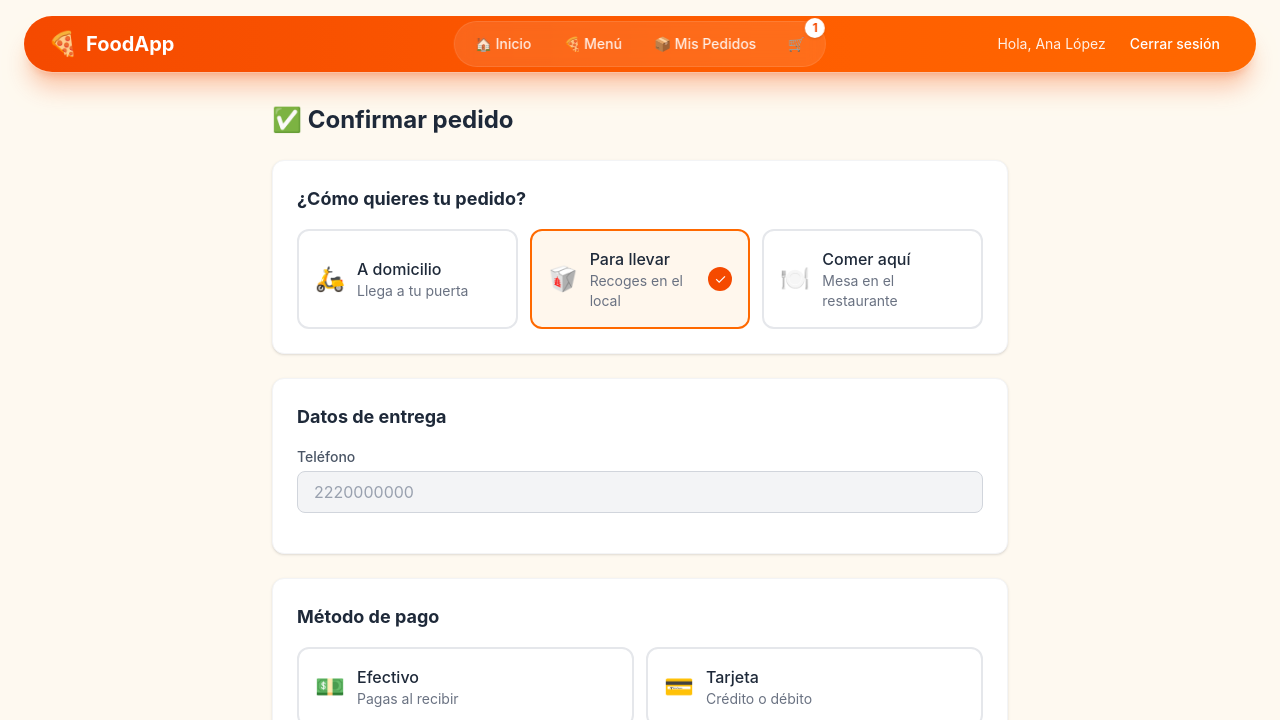
Test case: CheckoutPage - envío del pedido al backend › si el POST falla: aviso de error y el carrito NO se vacía
The width and height of the screenshot is (1280, 720).
Type "3001234567" into the field labelled "Teléfono".
click(640, 492); type("3001234567")  # box [297,471,983,513]
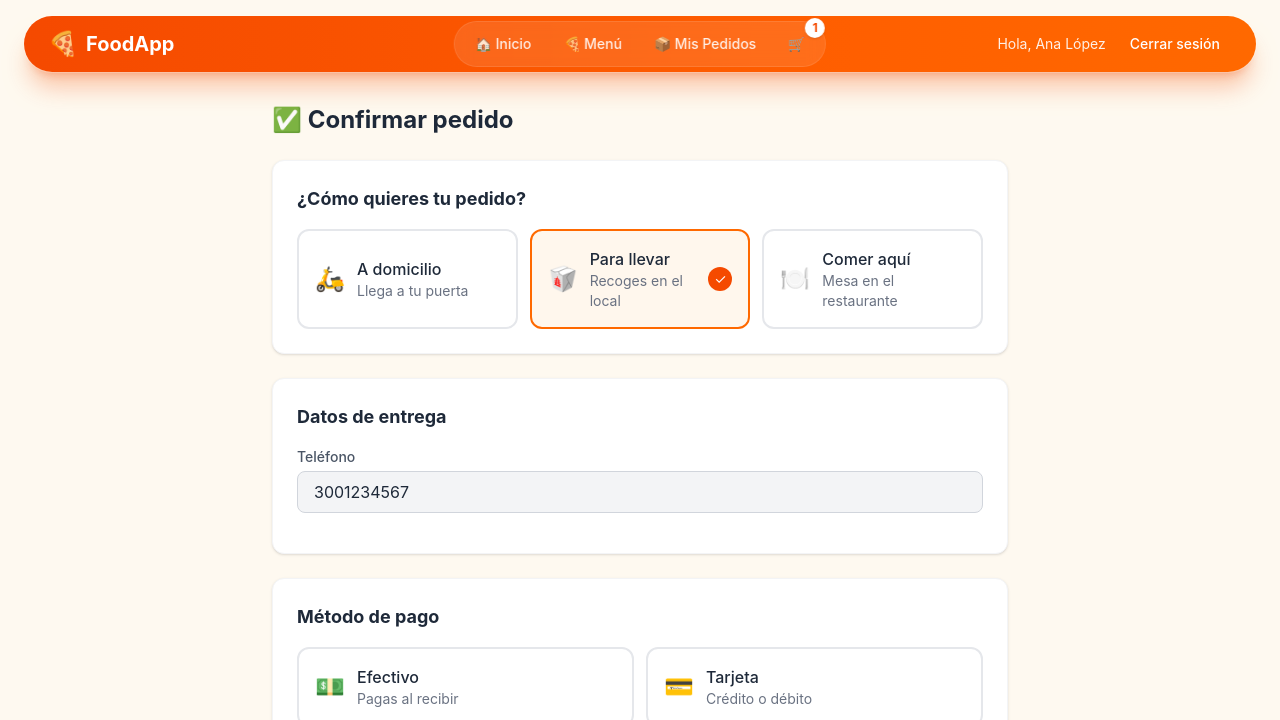
Click the text "Efectivo".
click(388, 677)  # box [357,667,419,687]
(page scrolled)
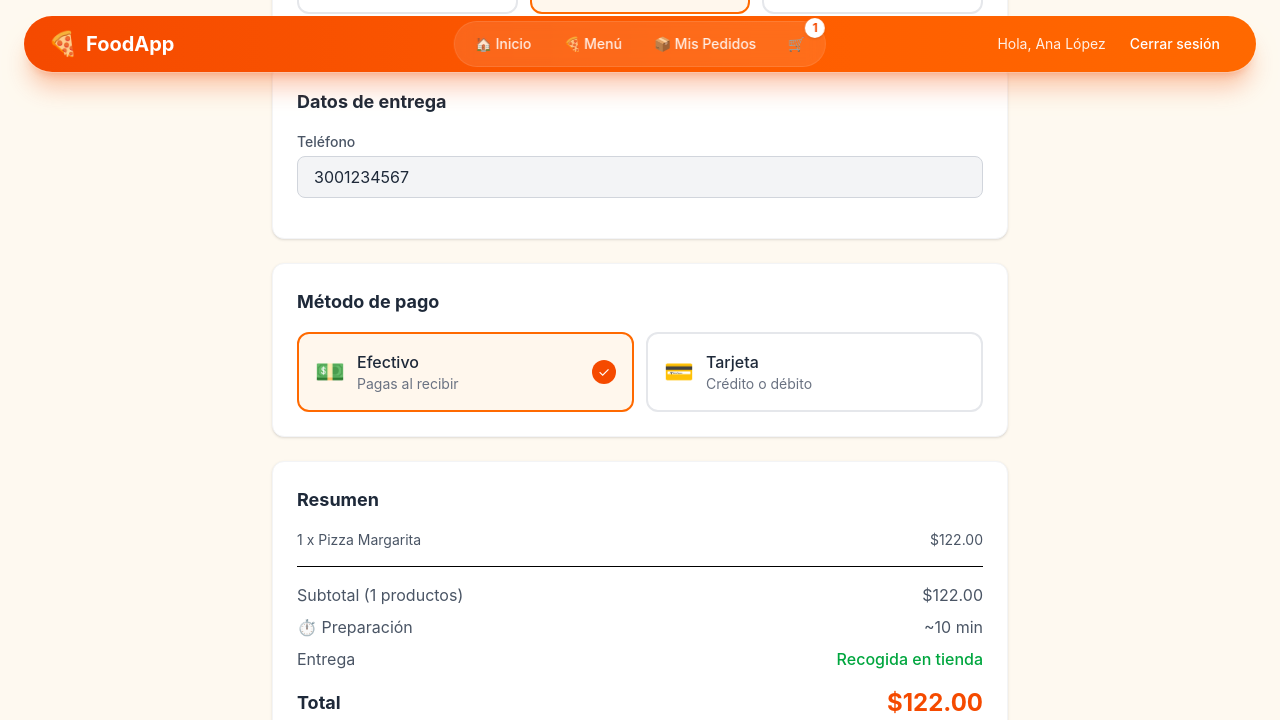
Submit the form named "Confirmar pedido"
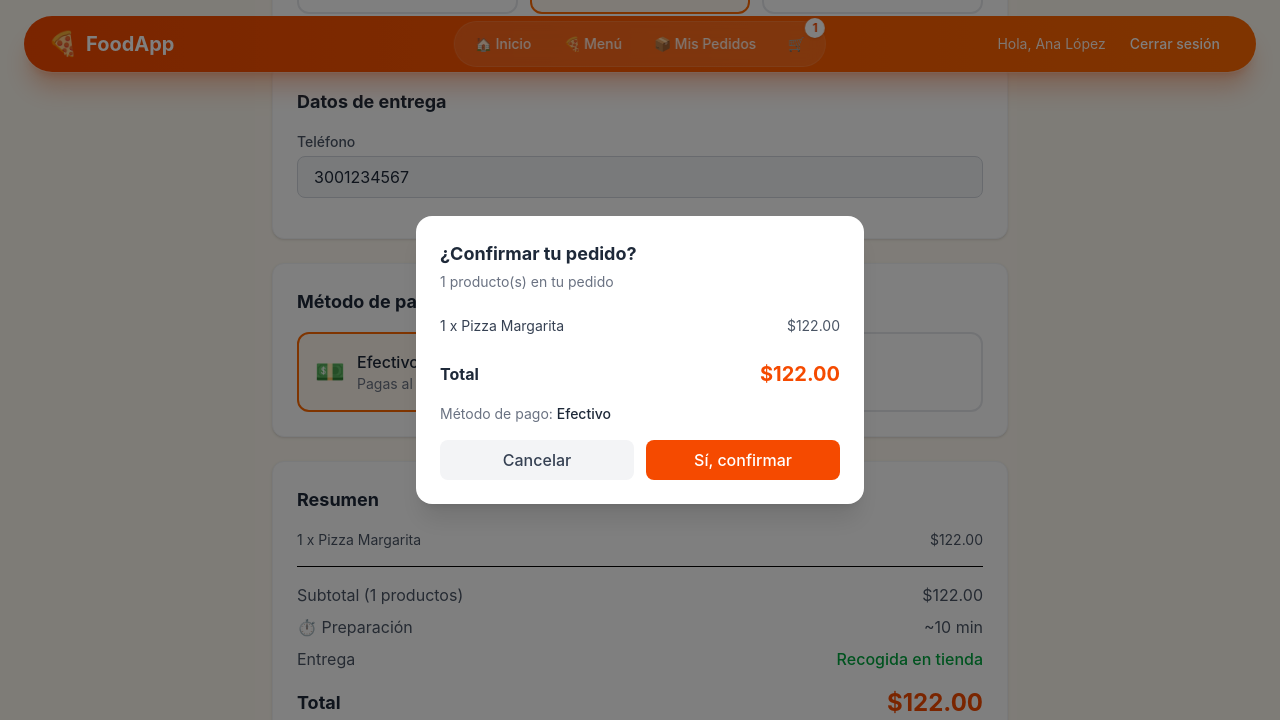
expect the heading "¿Confirmar tu pedido?" is shown: met, box [440,243,637,264]
Click the button "Sí, confirmar".
click(743, 460)  # box [646,440,840,480]
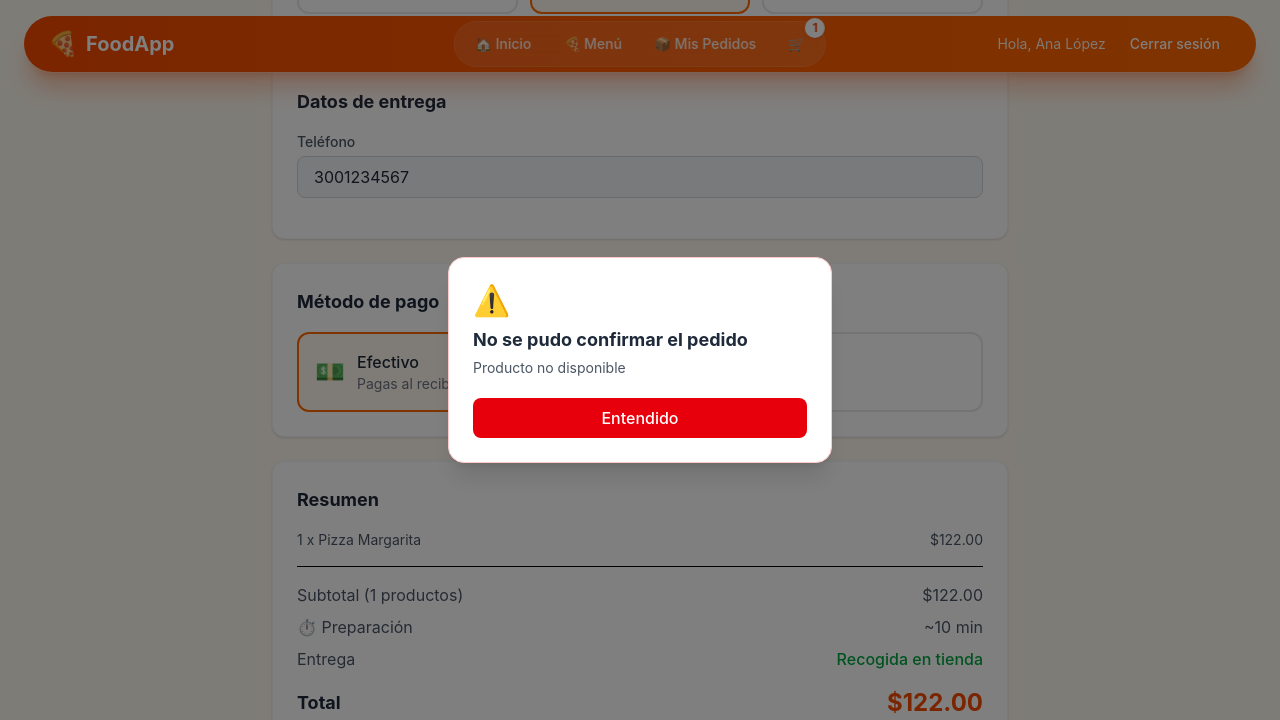
expect the heading "No se pudo confirmar el pedido" is shown: met, box [473,329,748,350]
expect the text "Producto no disponible" is shown: met, box [473,359,626,376]
